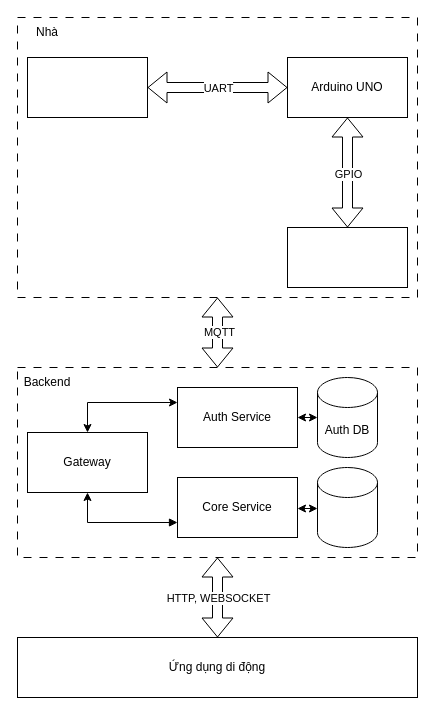
The diagram is 435 pixels wide and 715 high, and some of its shapes have lost their labels. The centre of each missing label's shape, as x and y in pixels:
"Core DB" goes at (347,507).
"Cảm biến" goes at (347,257).
"ESP32-CYD" goes at (87,87).
